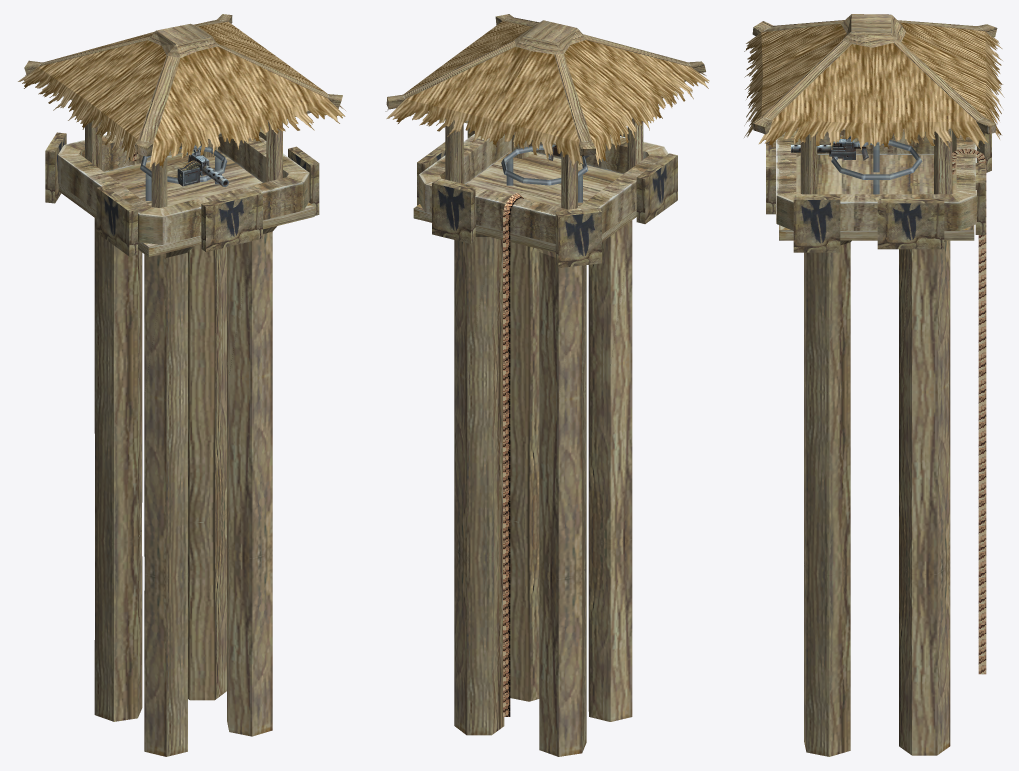
The model's file is C3SMWATCHTH.obj.
3 renders of one model, left to right at view 1: azimuth 30°, elevation 25°; view 2: azimuth 150°, elevation 25°; view 3: azimuth 270°, elevation 25°, orthographic. The views are drawn at different scales.
Visible parts, largest first — view 1: Node 0, Node 10, Node 21, Node 14, Node 18, Node 8, Node 19, Node 15, Node 13, Node 12; view 2: Node 0, Node 10, Node 16, Node 19, Node 20, Node 18, Node 14, Node 11, Node 15, Node 12, Node 13; view 3: Node 0, Node 10, Node 14, Node 16, Node 17, Node 15, Node 11, Node 8, Node 20, Node 21.
Part boxes in pixels (x1=…): Node 0: x1=58, y1=134, x2=314, y2=756; Node 10: x1=18, y1=14, x2=345, y2=181; Node 21: x1=201, y1=190, x2=262, y2=252; Node 14: x1=218, y1=136, x2=319, y2=215; Node 18: x1=96, y1=185, x2=137, y2=256; Node 8: x1=177, y1=146, x2=228, y2=186; Node 19: x1=45, y1=132, x2=66, y2=203; Node 15: x1=140, y1=145, x2=227, y2=200; Node 13: x1=151, y1=156, x2=167, y2=207; Node 12: x1=85, y1=120, x2=101, y2=169; Node 0: x1=413, y1=136, x2=668, y2=756; Node 10: x1=385, y1=14, x2=709, y2=165; Node 16: x1=386, y1=47, x2=583, y2=168; Node 19: x1=555, y1=208, x2=601, y2=268; Node 20: x1=432, y1=179, x2=475, y2=243; Node 18: x1=636, y1=153, x2=677, y2=223; Node 14: x1=419, y1=128, x2=511, y2=211; Node 11: x1=445, y1=118, x2=463, y2=183; Node 15: x1=501, y1=144, x2=588, y2=202; Node 12: x1=561, y1=151, x2=577, y2=209; Node 13: x1=627, y1=119, x2=643, y2=170; Node 0: x1=776, y1=130, x2=986, y2=756; Node 10: x1=744, y1=14, x2=997, y2=194; Node 14: x1=776, y1=192, x2=976, y2=252; Node 16: x1=900, y1=22, x2=1004, y2=139; Node 17: x1=877, y1=199, x2=944, y2=249; Node 15: x1=831, y1=140, x2=922, y2=194; Node 11: x1=934, y1=130, x2=952, y2=194; Node 8: x1=791, y1=135, x2=868, y2=160; Node 20: x1=975, y1=163, x2=985, y2=234; Node 21: x1=766, y1=141, x2=775, y2=214.
Bounding box in the file's own units: 6.8 × 20.17 × 6.81.
Materials: 18 (18 with a texture image).
